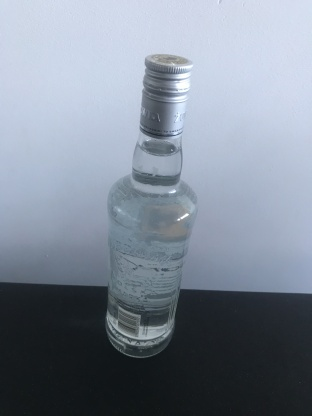nakretka: (138, 51, 194, 140)
